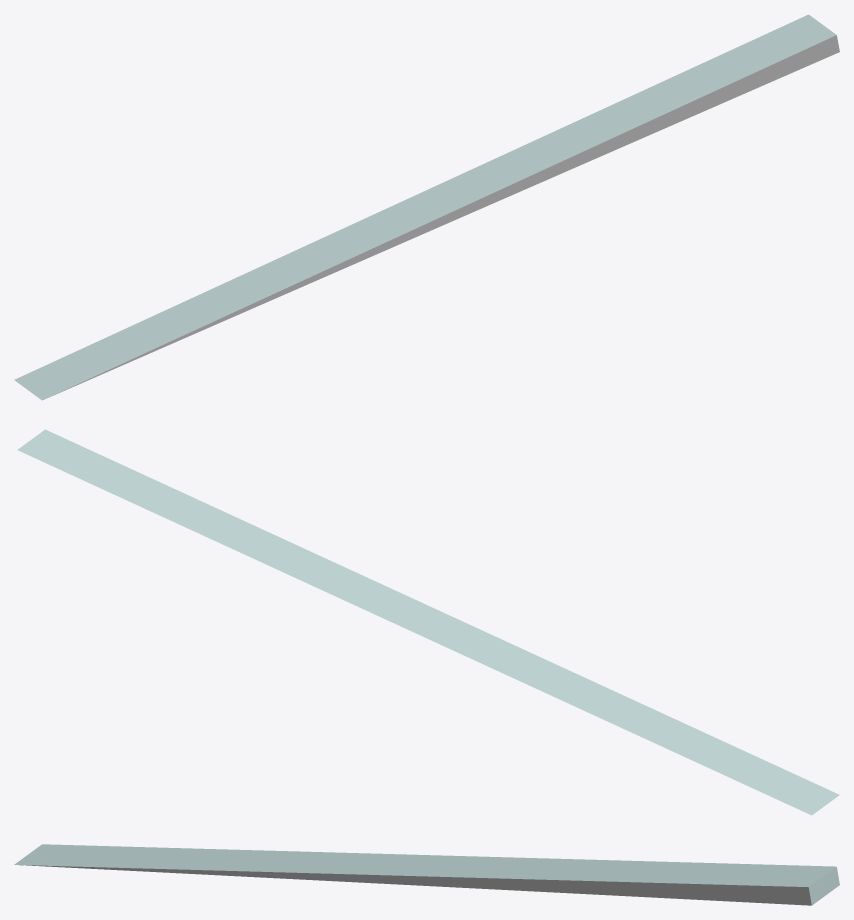
The picture shows the model from 3 angles, top to bottom: view 1: azimuth 30°, elevation 25°; view 2: azimuth 150°, elevation 25°; view 3: azimuth 330°, elevation 25°; orthographic projection.
Parts seen in each view (by area): view 1: 0_2_1_0_2_2_2_1_0; view 2: 0_2_1_0_2_2_2_1_0; view 3: 0_2_1_0_2_2_2_1_0.
Boxes of the visible parts, x1,y1,x2,y2 form: 0_2_1_0_2_2_2_1_0: (14,14,839,400); 0_2_1_0_2_2_2_1_0: (17,429,839,815); 0_2_1_0_2_2_2_1_0: (14,844,839,905).
Bounding box in the file's own units: 49.08 × 10.09 × 3.
